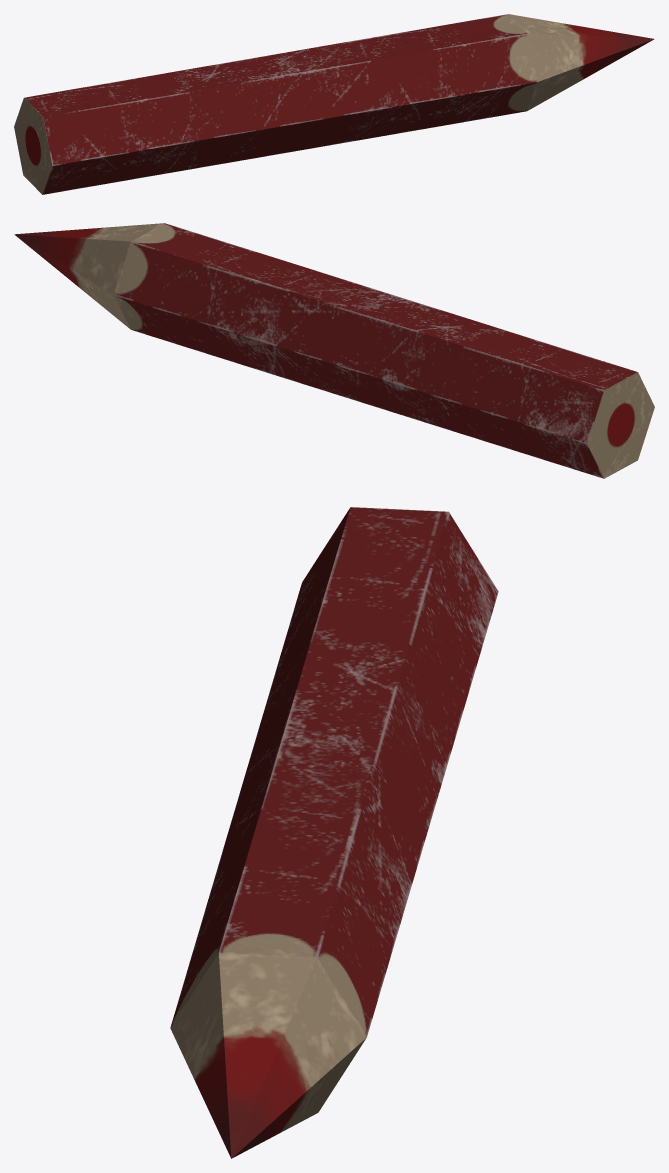
File: crayon.fbx
3 views of the same model, one above another, from view 1: azimuth 30°, elevation 25°; view 2: azimuth 150°, elevation 25°; view 3: azimuth 270°, elevation 25° (orthographic). The views are drawn at different scales.
Parts seen in each view (by area): view 1: Cylinder.004; view 2: Cylinder.004; view 3: Cylinder.004.
Boxes of the visible parts, x1,y1,x2,y2 form: Cylinder.004: (14,14,654,194); Cylinder.004: (14,223,654,478); Cylinder.004: (170,507,498,1158).
Bounding box in the file's own units: 0.1784 × 0.0235 × 0.0434.
